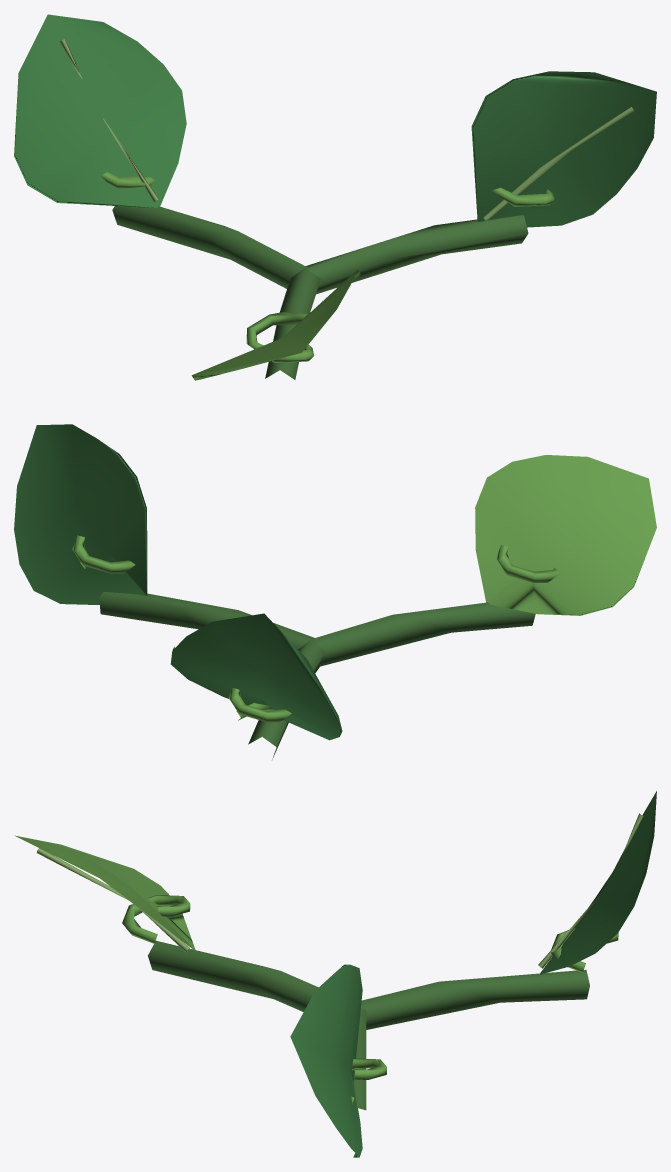
File: calabaza_1_lod.glb
The picture shows the model from 3 angles, top to bottom: view 1: azimuth 30°, elevation 25°; view 2: azimuth 150°, elevation 25°; view 3: azimuth 270°, elevation 25°; orthographic projection. The views are drawn at different scales.
Parts seen in each view (by area): view 1: calabaza_1_guias_0; view 2: calabaza_1_guias_0; view 3: calabaza_1_guias_0.
Boxes of the visible parts, bbox=[...] form: calabaza_1_guias_0: bbox=[14, 14, 656, 380]; calabaza_1_guias_0: bbox=[14, 424, 656, 759]; calabaza_1_guias_0: bbox=[15, 791, 656, 1157].
Bounding box in the file's own units: 0.4755 × 0.1601 × 0.4915.
